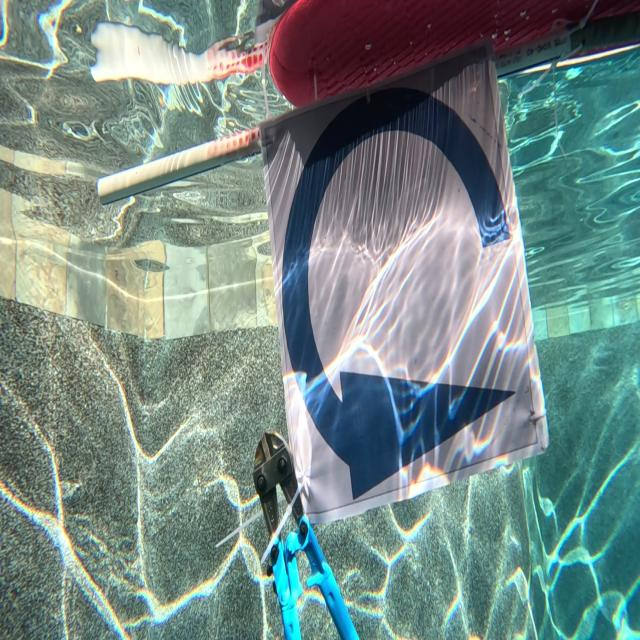blue_side: (282, 71, 519, 516)
